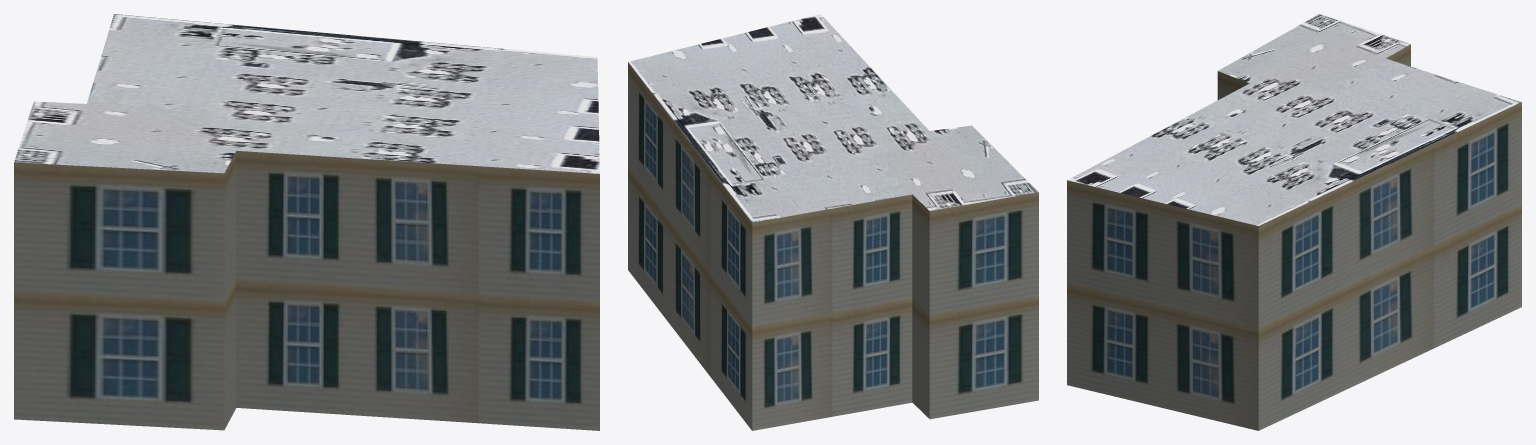
The model's file is ResTex__4615.fbx.
3 renders of one model, left to right at view 1: azimuth 30°, elevation 25°; view 2: azimuth 150°, elevation 25°; view 3: azimuth 270°, elevation 25°, orthographic. The views are drawn at different scales.
Visible parts, largest first — view 1: CityEngineMaterial_7_m, CityEngineMaterial_m; view 2: CityEngineMaterial_7_m, CityEngineMaterial_m; view 3: CityEngineMaterial_7_m, CityEngineMaterial_m.
Boxes of the visible parts, box(x1,y1,x2,y2) form: CityEngineMaterial_7_m: box(14, 150, 599, 430); CityEngineMaterial_m: box(14, 14, 599, 173); CityEngineMaterial_7_m: box(628, 62, 1038, 430); CityEngineMaterial_m: box(628, 14, 1038, 222); CityEngineMaterial_7_m: box(1067, 44, 1521, 430); CityEngineMaterial_m: box(1067, 14, 1521, 225).
Bounding box in the file's own units: 13.32 × 6 × 12.07.
2 materials, 2 textured.
